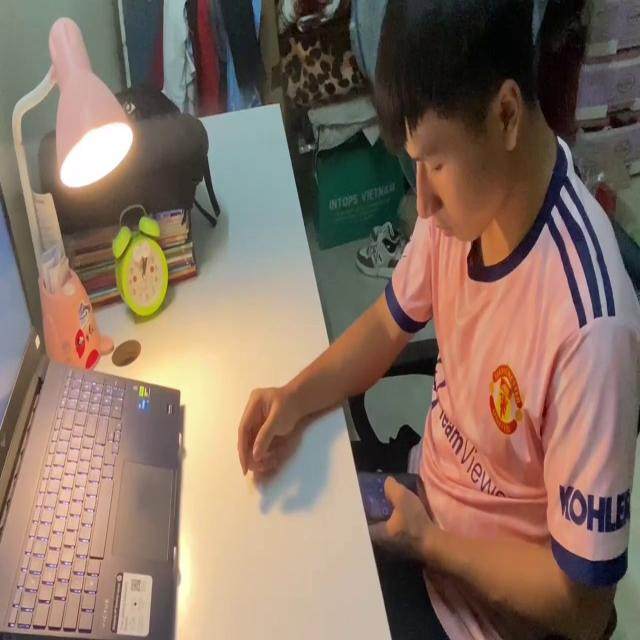laptop: (0, 184, 182, 640)
phone: (358, 460, 426, 527)
student: (230, 0, 640, 640)
